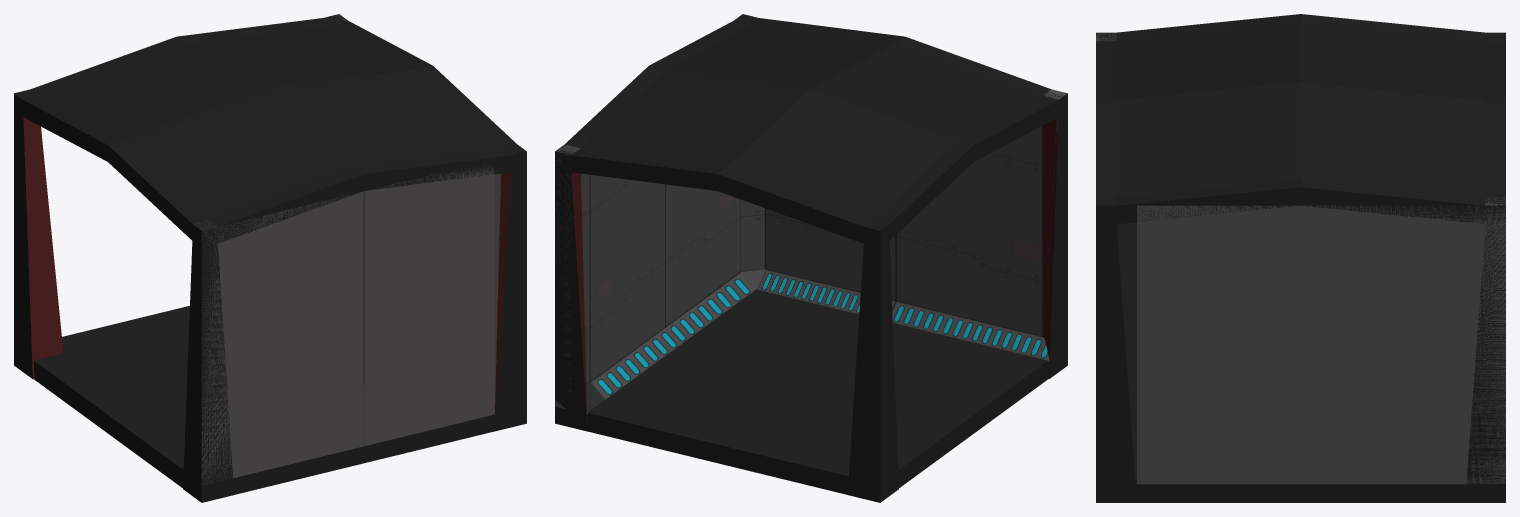
The model's file is Corner.fbx.
3 views of the same model, side by side, from view 1: azimuth 30°, elevation 25°; view 2: azimuth 150°, elevation 25°; view 3: azimuth 270°, elevation 25° (orthographic). The views are drawn at different scales.
Visible parts, largest first — view 1: Ceiling.003, Walls.004, FloorStraight.003; view 2: Ceiling.003, Walls.004, FloorStraight.003; view 3: Walls.004, Ceiling.003, FloorStraight.003.
Boxes of the visible parts, left/top/right/bottom form: Ceiling.003: left=14, top=14, right=526, bottom=502; Walls.004: left=183, top=15, right=500, bottom=484; FloorStraight.003: left=33, top=305, right=494, bottom=494; Ceiling.003: left=555, top=14, right=1067, bottom=502; Walls.004: left=555, top=89, right=1067, bottom=414; FloorStraight.003: left=587, top=289, right=1048, bottom=494; Walls.004: left=1096, top=32, right=1505, bottom=484; Ceiling.003: left=1096, top=14, right=1505, bottom=502; FloorStraight.003: left=1135, top=484, right=1466, bottom=502.
Bounding box in the file's own units: 20 × 18.05 × 20.
3 materials, 2 textured.
